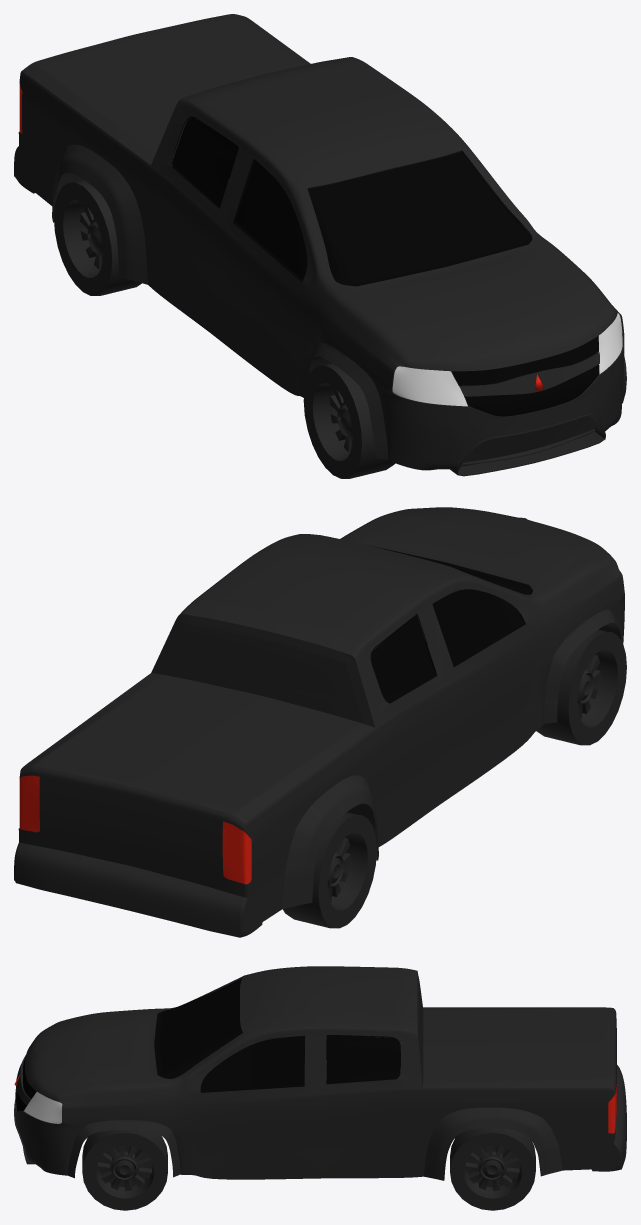
The model's file is theend2.glb.
3 views of the same model, one above another, from view 1: azimuth 30°, elevation 25°; view 2: azimuth 150°, elevation 25°; view 3: azimuth 270°, elevation 25° (orthographic). The views are drawn at different scales.
Parts seen in each view (by area): view 1: Plane, Plane.006, mustang.001, mustang.003, Plane.004, Plane.002, Plane.008, Plane.005, Plane.001, Plane.003; view 2: Plane, mustang.001, mustang.003, Plane.004, Plane.005, Plane.007, Plane.006; view 3: Plane, mustang.004, mustang.002, Plane.006, Plane.004, Plane.005, Plane.001.
Part boxes in pixels (x1,y1,x2,y2): Plane: (14,14,624,470); Plane.006: (307,151,532,286); mustang.001: (303,363,395,478); mustang.003: (54,180,141,295); Plane.004: (233,159,307,282); Plane.002: (451,336,599,416); Plane.008: (450,414,605,476); Plane.005: (171,116,238,208); Plane.001: (392,313,622,406); Plane.003: (459,352,599,396); Plane: (14,507,624,937); mustang.001: (536,629,626,745); mustang.003: (283,812,376,928); Plane.004: (432,589,525,666); Plane.005: (370,613,436,703); Plane.007: (19,775,251,884); Plane.006: (319,535,532,594); Plane: (15,966,626,1180); mustang.004: (450,1128,535,1210); mustang.002: (82,1130,167,1210); Plane.006: (154,978,242,1078); Plane.004: (200,1036,305,1092); Plane.005: (326,1035,400,1084); Plane.001: (24,1092,62,1123).
Bounding box in the file's own units: 1.21 × 1.01 × 3.3.
